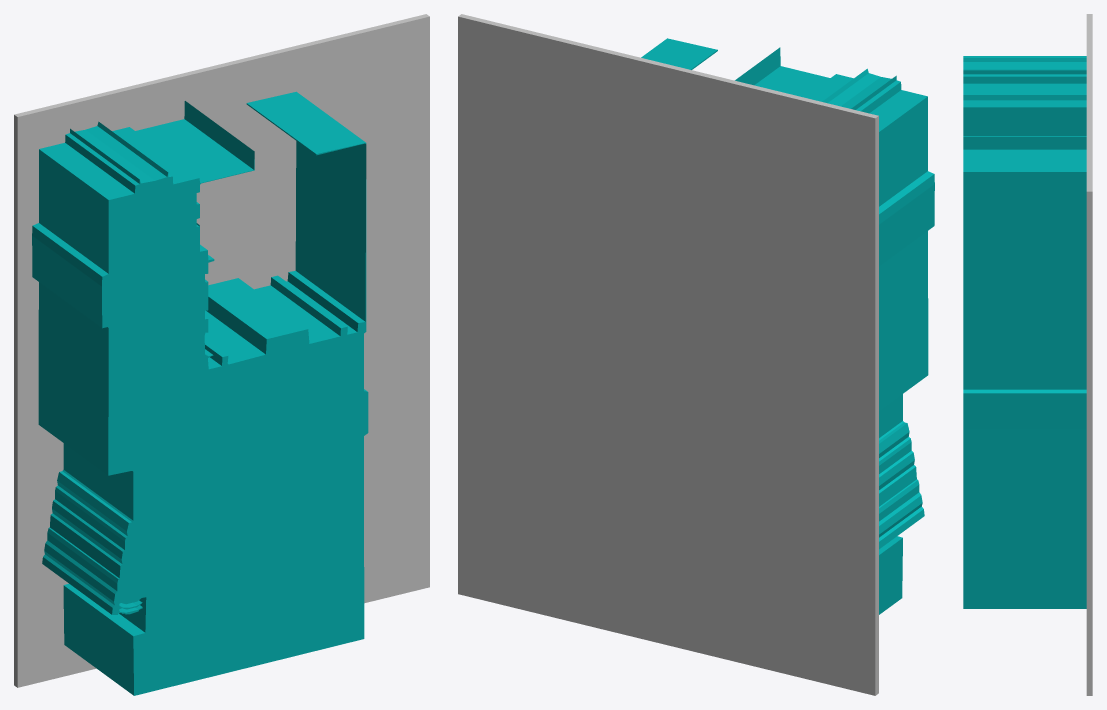
3 renders of one model, left to right at view 1: azimuth 30°, elevation 25°; view 2: azimuth 150°, elevation 25°; view 3: azimuth 270°, elevation 25°, orthographic. The views are drawn at different scales.
Parts seen in each view (by area): view 1: world; view 2: world; view 3: world.
Part boxes in pixels (<box>): world: <box>14,14,429,695</box>; world: <box>458,14,934,695</box>; world: <box>963,14,1092,695</box>.
Bounding box in the file's own units: 10.23 × 13.53 × 3.15.
